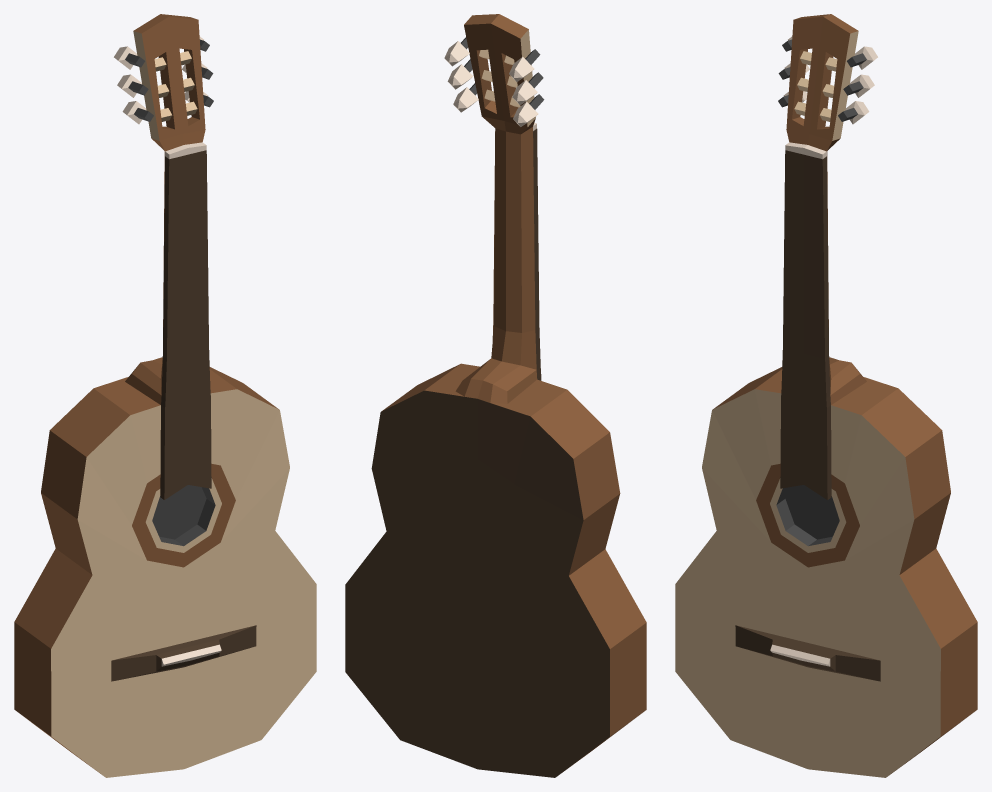
File: guitar-acoustic.fbx
3 renders of one model, left to right at view 1: azimuth 30°, elevation 25°; view 2: azimuth 150°, elevation 25°; view 3: azimuth 330°, elevation 25°, orthographic.
Parts seen in each view (by area): view 1: guitar-acoustic; view 2: guitar-acoustic; view 3: guitar-acoustic.
Boxes of the visible parts, left/top/right/bottom form: guitar-acoustic: left=14, top=14, right=316, bottom=777; guitar-acoustic: left=345, top=14, right=646, bottom=777; guitar-acoustic: left=675, top=14, right=977, bottom=777.
Bounding box in the file's own units: 0.3749 × 1 × 0.1131.
